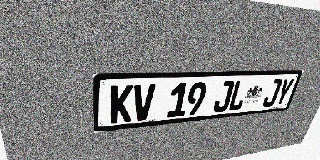1: (167, 82, 190, 118)
9: (185, 82, 208, 116)
J: (212, 81, 235, 113), (261, 79, 283, 108)
K: (110, 85, 134, 124)
L: (227, 80, 250, 111)
V: (132, 84, 156, 121)
Y: (273, 78, 295, 106)
